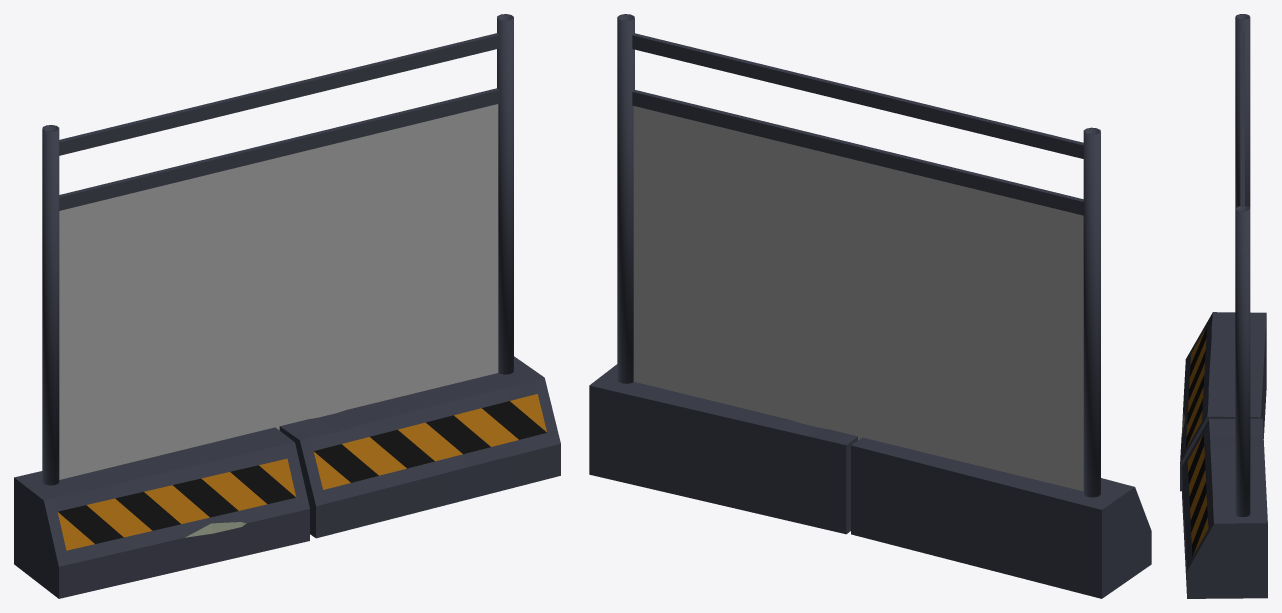
The model's file is Barrier_Large.obj.
3 renders of one model, left to right at view 1: azimuth 30°, elevation 25°; view 2: azimuth 150°, elevation 25°; view 3: azimuth 270°, elevation 25°, orthographic. The views are drawn at different scales.
Visible parts, largest first — view 1: Barrier_Large_Cube.029; view 2: Barrier_Large_Cube.029; view 3: Barrier_Large_Cube.029.
Part boxes in pixels (box(x1,y1,x2,y2)): Barrier_Large_Cube.029: box(14, 14, 560, 598); Barrier_Large_Cube.029: box(589, 14, 1151, 598); Barrier_Large_Cube.029: box(1180, 14, 1267, 598).
Size of the model in its own units: 3.81 by 3.18 by 0.6666.
